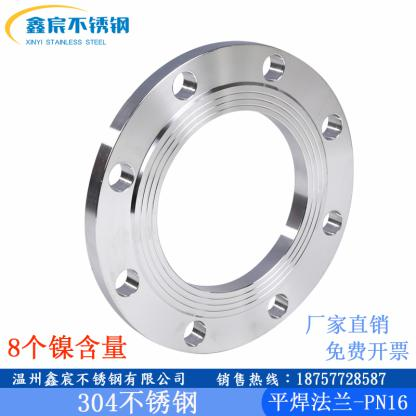FOD: (80, 38, 358, 361)
